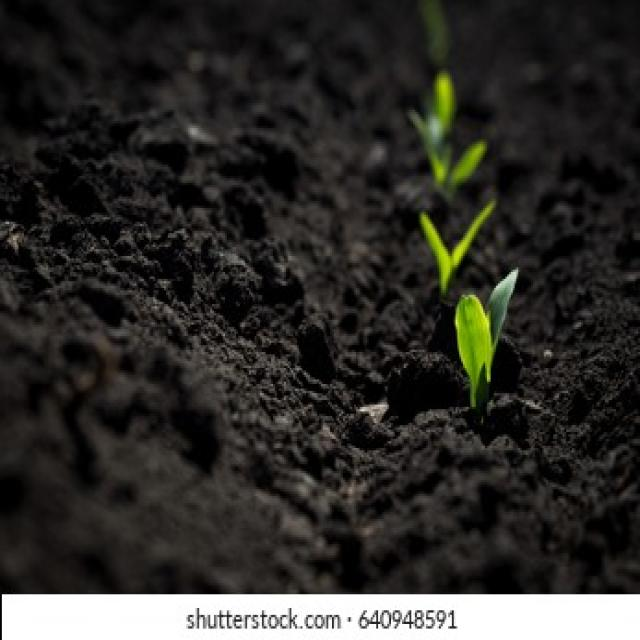Black Soil: (64, 72, 339, 528), (528, 128, 613, 519)
